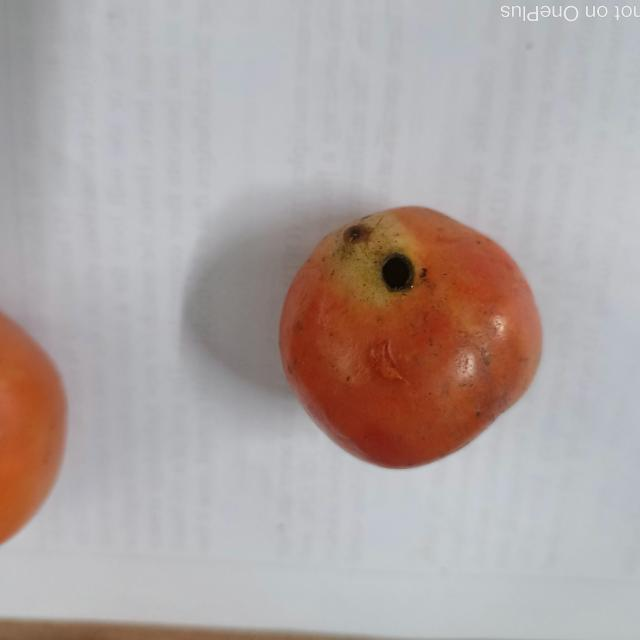fruitworm_bore: (382, 251, 418, 295)
